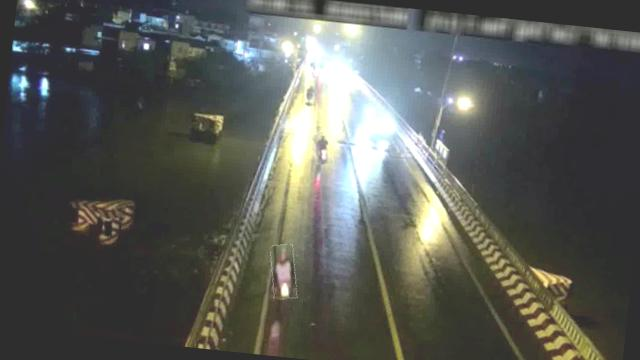Bike: (266, 242, 300, 300), (312, 132, 334, 166)
